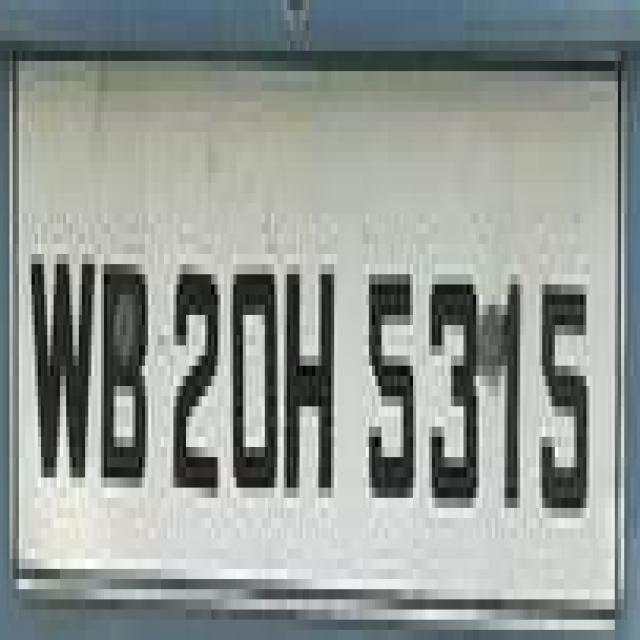license_plate: (3, 51, 612, 620)
